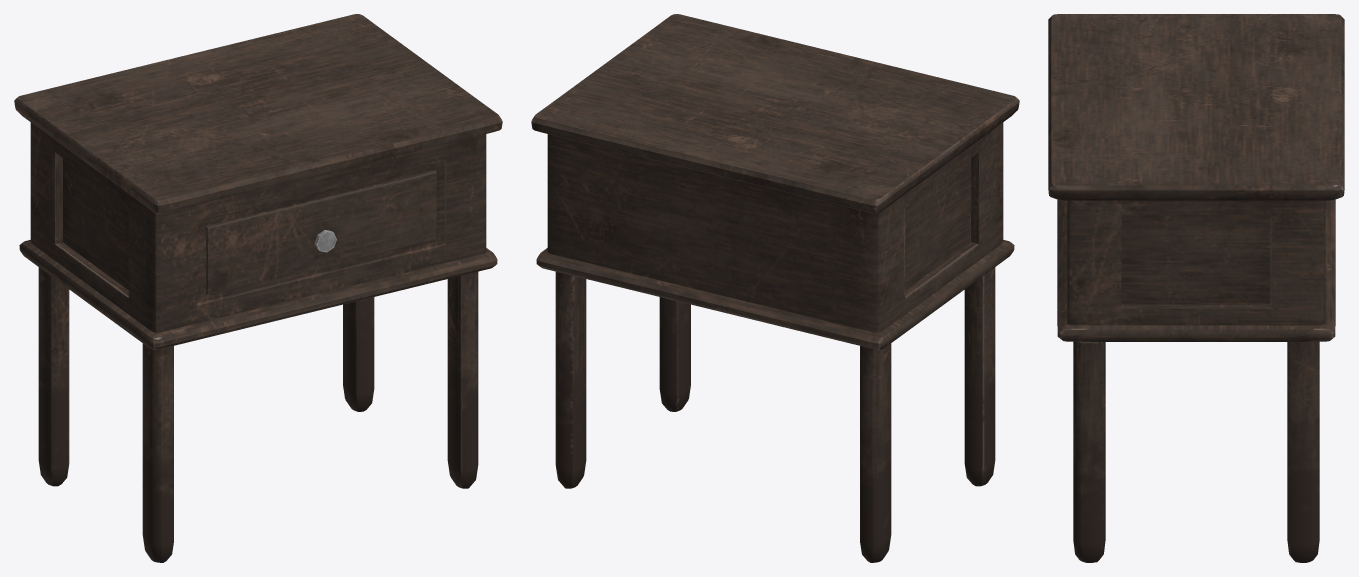
The model's file is Mesa de cabeceira.fbx.
3 views of the same model, side by side, from view 1: azimuth 30°, elevation 25°; view 2: azimuth 150°, elevation 25°; view 3: azimuth 270°, elevation 25° (orthographic). The views are drawn at different scales.
Visible parts, largest first — view 1: Cube, Cube.003; view 2: Cube; view 3: Cube.
Part boxes in pixels (box(x1,y1,x2,y2)): Cube: box(14, 14, 502, 562); Cube.003: box(206, 170, 436, 294); Cube: box(531, 14, 1019, 562); Cube: box(1048, 14, 1344, 562).
Bounding box in the file's own units: 74.59 × 77.21 × 53.96.
